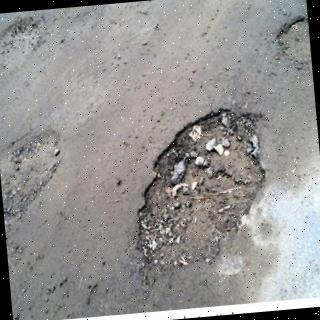pothole: (136, 108, 266, 269)
